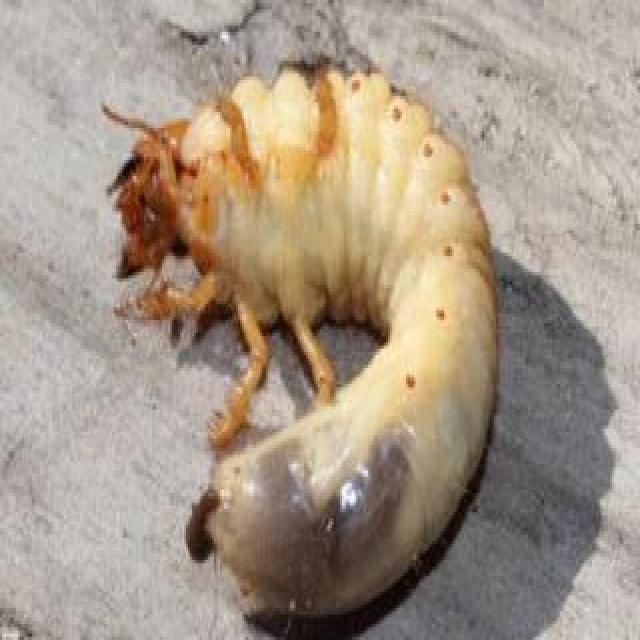Grub-Adult-: (103, 21, 525, 626)
